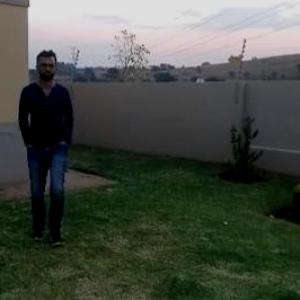follow: (14, 46, 77, 230)
